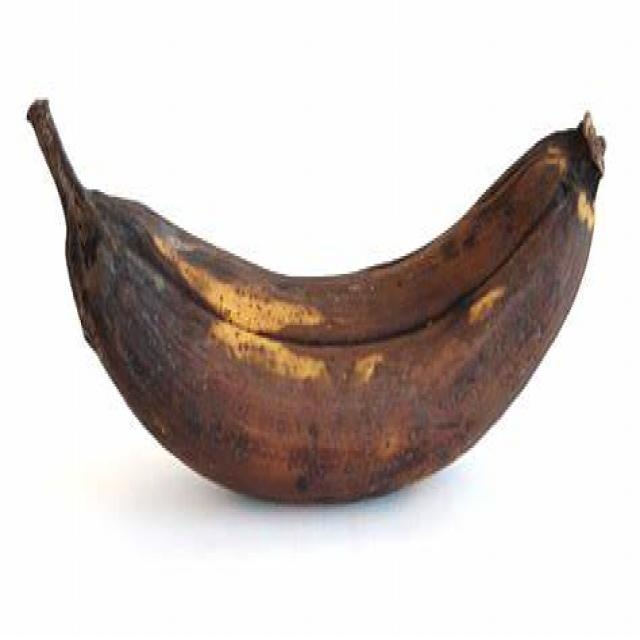Banana: (29, 97, 606, 500)
